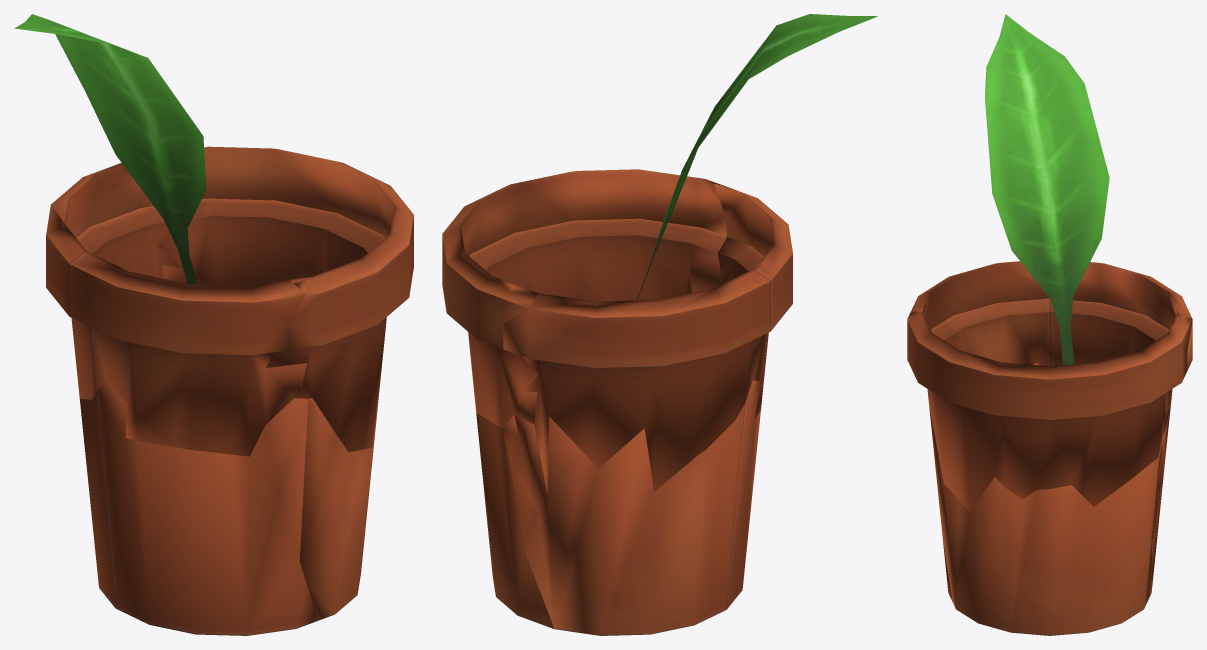
Rendered from pottedplant_smashed.fbx.
3 renders of one model, left to right at view 1: azimuth 30°, elevation 25°; view 2: azimuth 150°, elevation 25°; view 3: azimuth 270°, elevation 25°, orthographic. The views are drawn at different scales.
Parts seen in each view (by area): view 1: pottedplant_Plant.005, pottedplant_Plant, pottedplant_Plant.004, pottedplant_Plant.001, pottedplant_Plant.006; view 2: pottedplant_Plant.005, pottedplant_Plant, pottedplant_Plant.004, pottedplant_Plant.006, pottedplant_Plant.001; view 3: pottedplant_Plant.004, pottedplant_Plant.006, pottedplant_Plant.001, pottedplant_Plant.005, pottedplant_Plant.
Boxes of the visible parts, x1=… form: pottedplant_Plant.005: x1=46, y1=163, x2=307, y2=456; pottedplant_Plant: x1=79, y1=382, x2=318, y2=635; pottedplant_Plant.004: x1=158, y1=146, x2=413, y2=452; pottedplant_Plant.001: x1=14, y1=14, x2=206, y2=283; pottedplant_Plant.006: x1=299, y1=373, x2=380, y2=620; pottedplant_Plant.005: x1=503, y1=183, x2=792, y2=492; pottedplant_Plant: x1=512, y1=380, x2=760, y2=635; pottedplant_Plant.004: x1=442, y1=169, x2=726, y2=428; pottedplant_Plant.006: x1=476, y1=413, x2=554, y2=628; pottedplant_Plant.001: x1=637, y1=14, x2=877, y2=300; pottedplant_Plant.004: x1=907, y1=305, x2=1192, y2=511; pottedplant_Plant.006: x1=929, y1=410, x2=1162, y2=635; pottedplant_Plant.001: x1=985, y1=14, x2=1109, y2=365; pottedplant_Plant.005: x1=910, y1=261, x2=1192, y2=476; pottedplant_Plant: x1=943, y1=363, x2=1166, y2=601.
Bounding box in the file's own units: 2897 × 4321 × 2295.
1 material, 1 textured.
